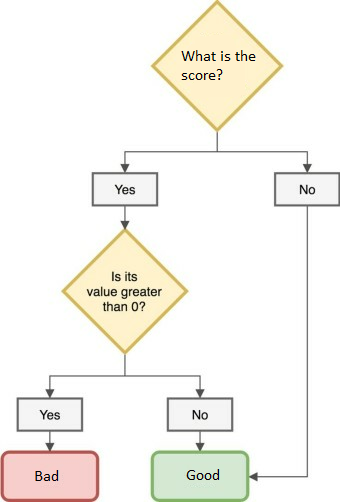arrow: (249, 205, 311, 482), (214, 129, 311, 173), (119, 131, 220, 169), (123, 352, 204, 395), (44, 357, 127, 395), (120, 206, 130, 230), (194, 432, 205, 451), (46, 431, 54, 454)
decision: (150, 1, 283, 132), (60, 227, 190, 354)
process: (1, 449, 102, 502), (148, 450, 252, 501), (14, 395, 84, 433), (164, 396, 235, 433), (271, 171, 340, 209), (90, 170, 158, 207)
text: (86, 270, 161, 313), (180, 47, 258, 82), (185, 467, 222, 483), (33, 468, 61, 483), (112, 181, 137, 197), (37, 406, 61, 422), (296, 183, 317, 197), (190, 407, 210, 421)
